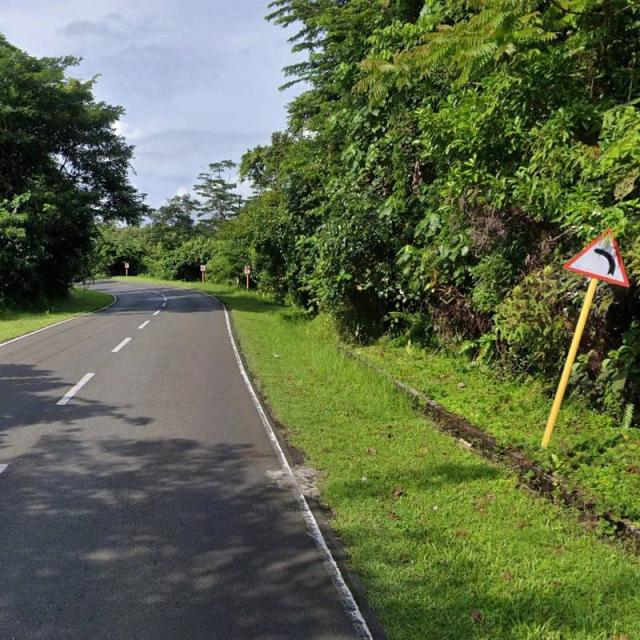warn_left_curve: (562, 228, 630, 288)
